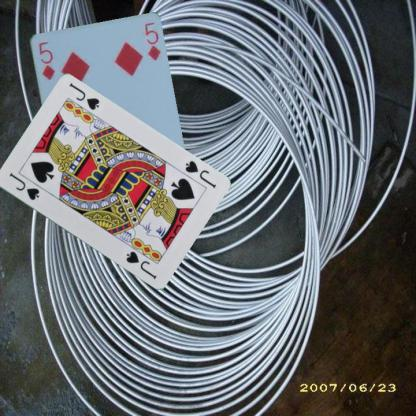5d: (36, 38, 56, 81)
Js: (6, 169, 40, 202), (182, 158, 217, 190)
